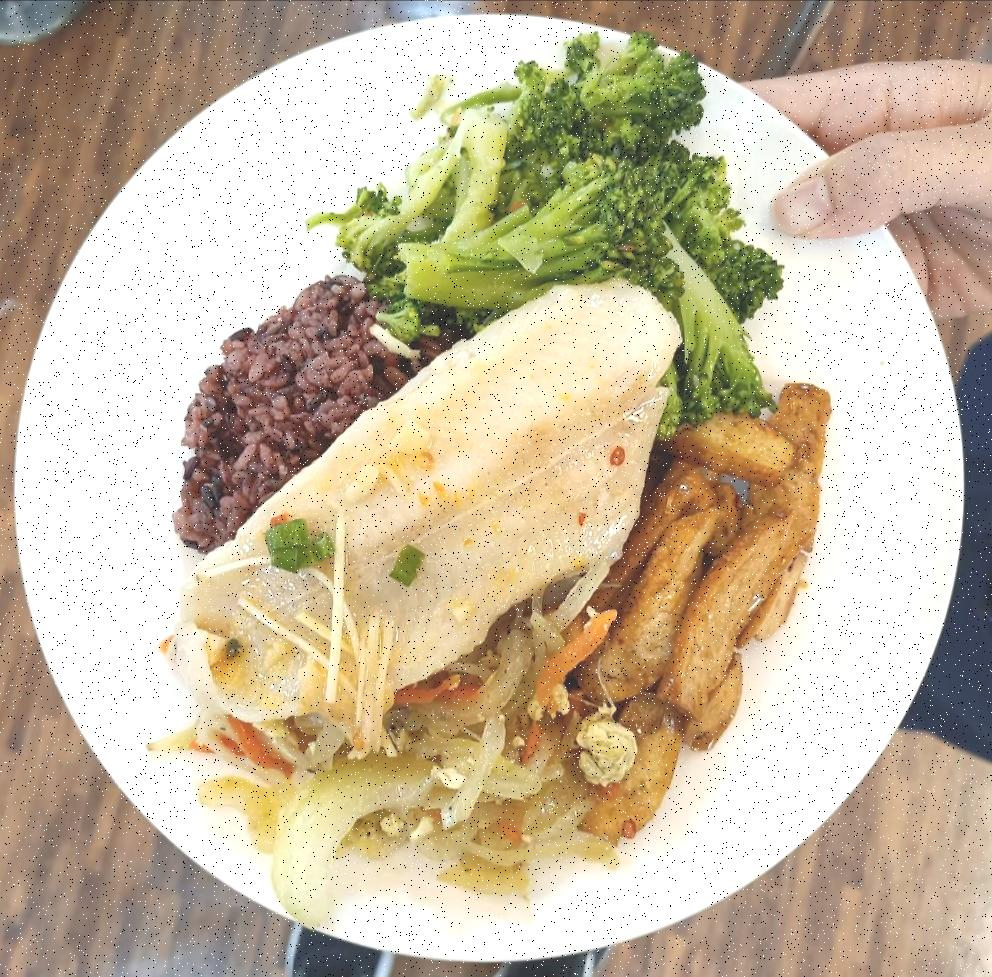big fried chicken leg: (20, 17, 980, 974)
braised fish: (164, 274, 529, 552)
braised fish fillet: (344, 31, 785, 416), (144, 592, 642, 917), (561, 366, 838, 845)
braised pork ribs: (161, 266, 680, 729)
